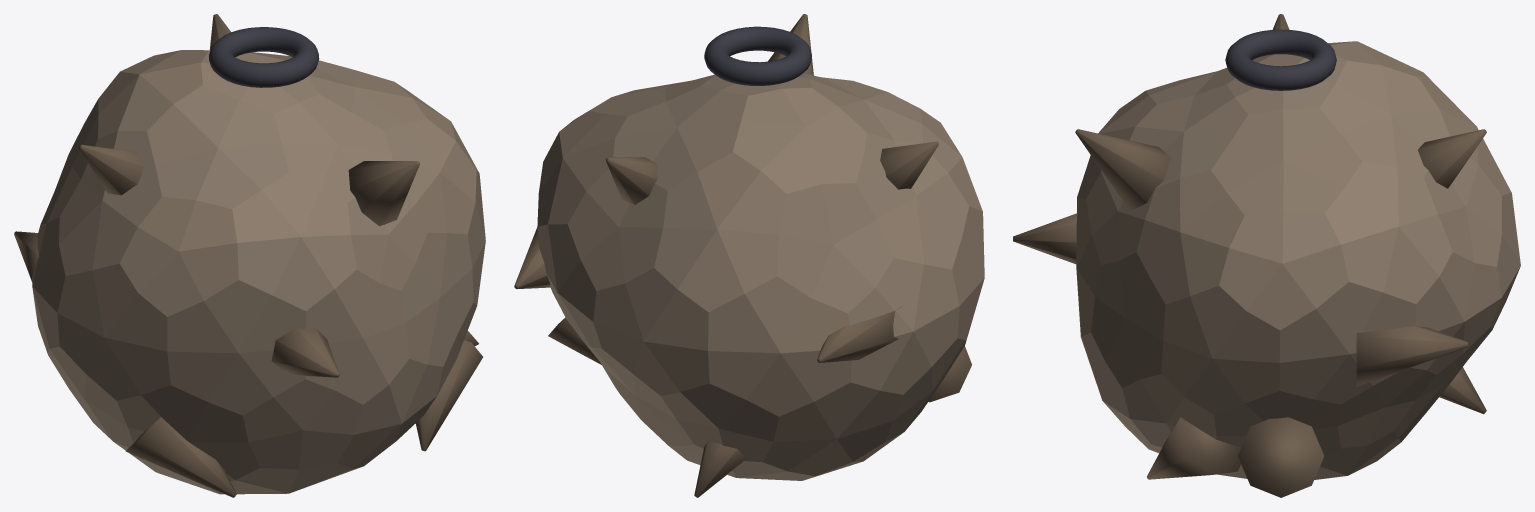
The model's file is gada-batu.glb.
3 renders of one model, left to right at view 1: azimuth 30°, elevation 25°; view 2: azimuth 150°, elevation 25°; view 3: azimuth 270°, elevation 25°, orthographic. The views are drawn at different scales.
Parts seen in each view (by area): view 1: Icosphere, Torus.009, Cone.006, Cone.008, Cone.007, Cone.009, Cone.005, Cone.004; view 2: Icosphere, Torus.009, Cone.004, Cone.002, Cone.005, Cone.003, Cone.001, Cone.006, Cone, Cone.008; view 3: Icosphere, Cone, Torus.009, Cone.001, Cone.008, Cone.009, Cone.002, Cone.007, Cone.003.
Boxes of the visible parts, box(x1,y1,x2,y2) form: Icosphere: box(32, 50, 485, 494); Torus.009: box(209, 27, 319, 87); Cone.006: box(126, 417, 236, 497); Cone.008: box(348, 161, 419, 226); Cone.007: box(271, 328, 339, 377); Cone.009: box(415, 340, 482, 451); Cone.005: box(79, 144, 144, 195); Cone.004: box(14, 231, 40, 281); Icosphere: box(537, 73, 984, 480); Torus.009: box(704, 26, 811, 85); Cone.004: box(817, 306, 901, 362); Cone.002: box(606, 157, 657, 204); Cone.005: box(880, 141, 938, 189); Cone.003: box(694, 441, 745, 497); Cone.001: box(514, 227, 550, 288); Cone.006: box(928, 346, 971, 402); Cone: box(548, 317, 601, 364); Cone.008: box(768, 14, 813, 75); Icosphere: box(1076, 41, 1520, 479); Cone: box(1238, 417, 1324, 497); Torus.009: box(1225, 29, 1336, 90); Cone.001: box(1356, 326, 1467, 386); Cone.008: box(1075, 129, 1170, 211); Cone.009: box(1147, 417, 1240, 479); Cone.002: box(1418, 129, 1486, 188); Cone.007: box(1013, 213, 1076, 264); Cone.003: box(1439, 367, 1486, 414).
Bounding box in the file's own units: 3.89 × 3.71 × 4.1.
